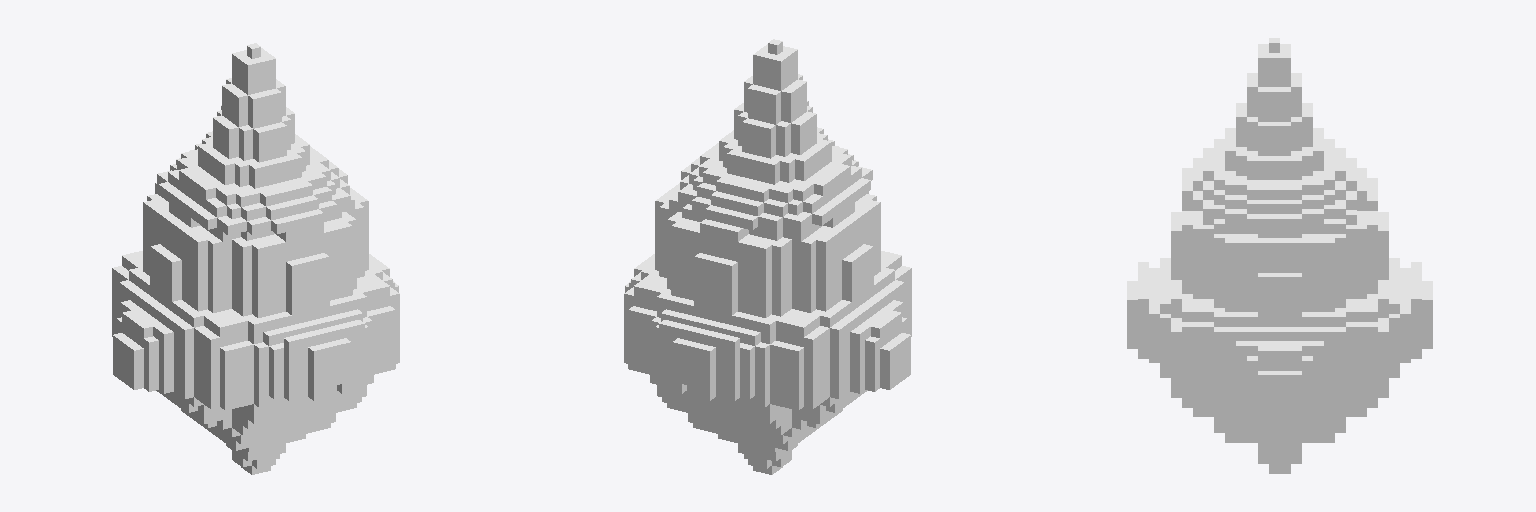
The model's file is Iceflower-2.obj.
3 views of the same model, side by side, from view 1: azimuth 30°, elevation 25°; view 2: azimuth 150°, elevation 25°; view 3: azimuth 270°, elevation 25° (orthographic).
Visible parts, largest first — view 1: object 1; view 2: object 1; view 3: object 1.
Part boxes in pixels (x1,y1,x2,y2): object 1: (112, 43, 399, 474); object 1: (624, 39, 911, 474); object 1: (1127, 38, 1432, 473).
Size of the model in its own units: 2.8 by 4.3 by 2.8.